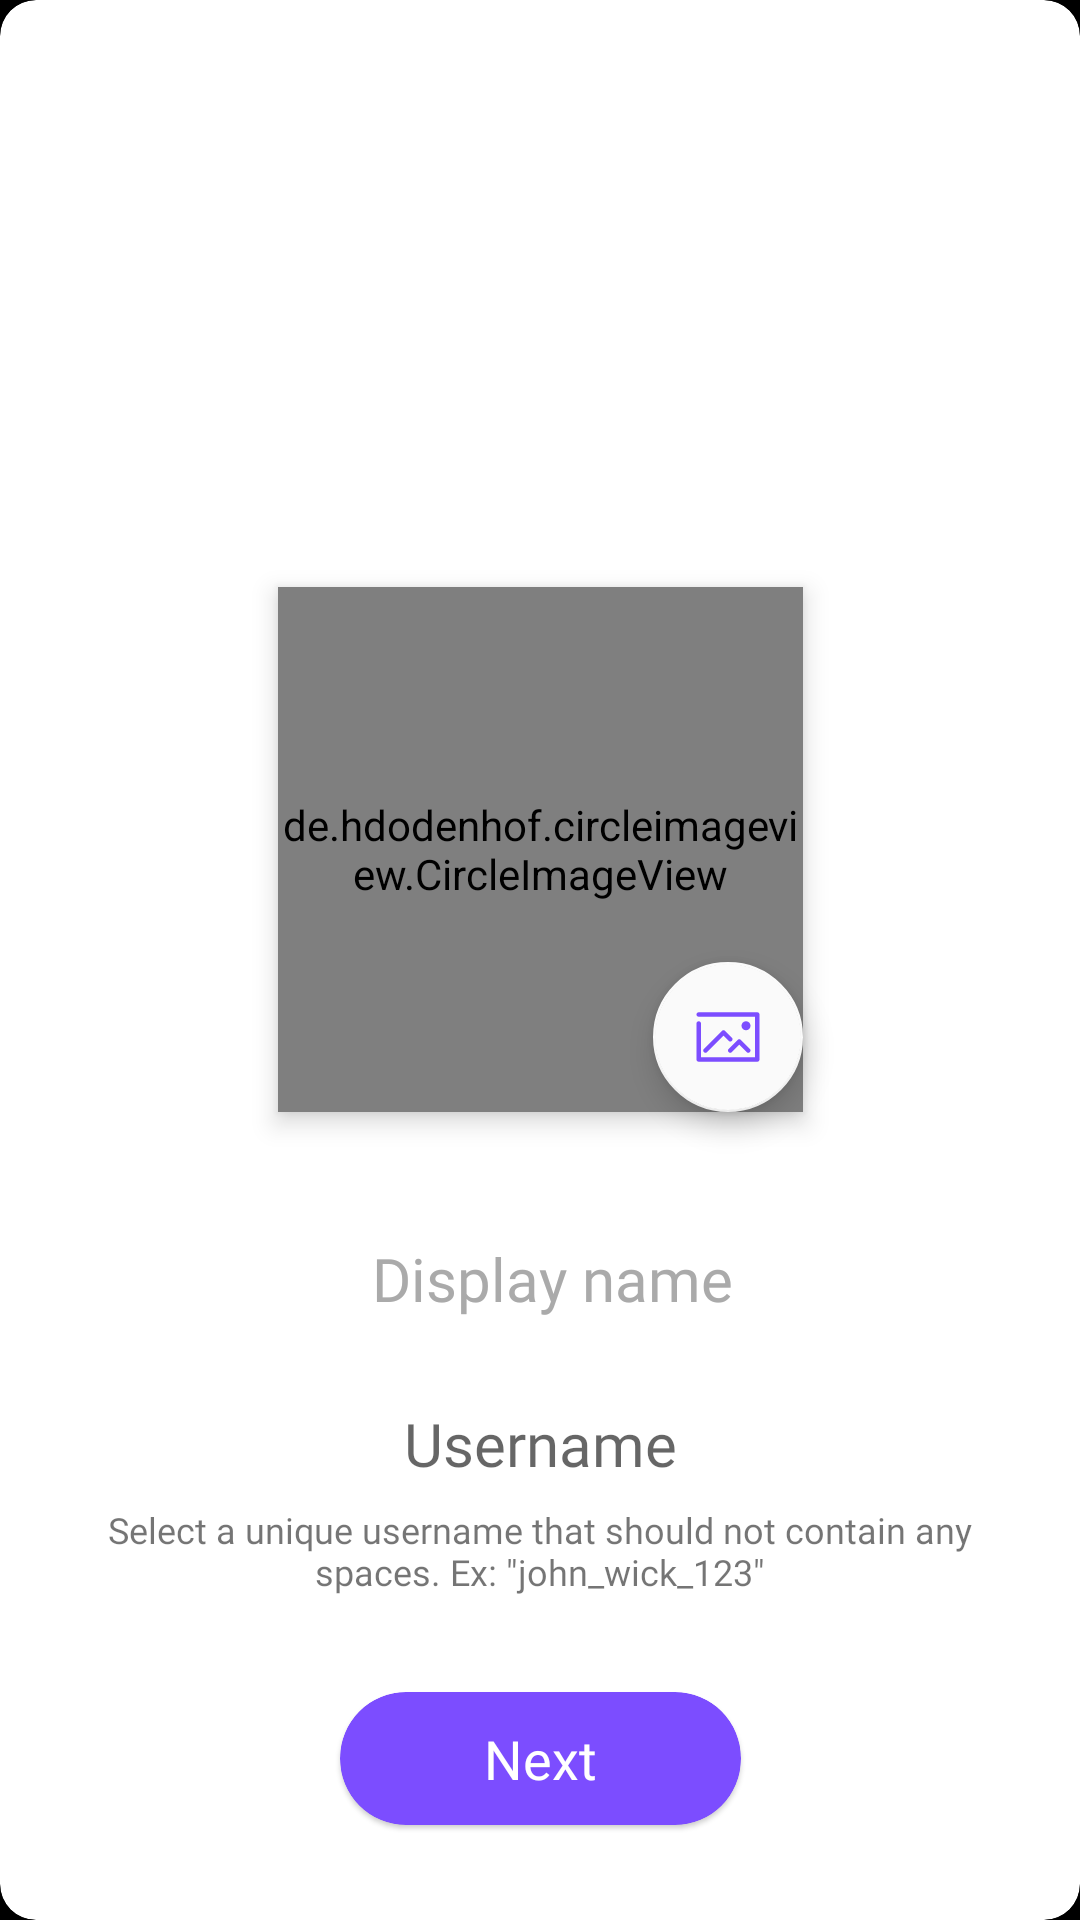

Icon click points for this 1080w x 1920h phone screenshot, format point (x, y):
photo: point (728, 1037)
